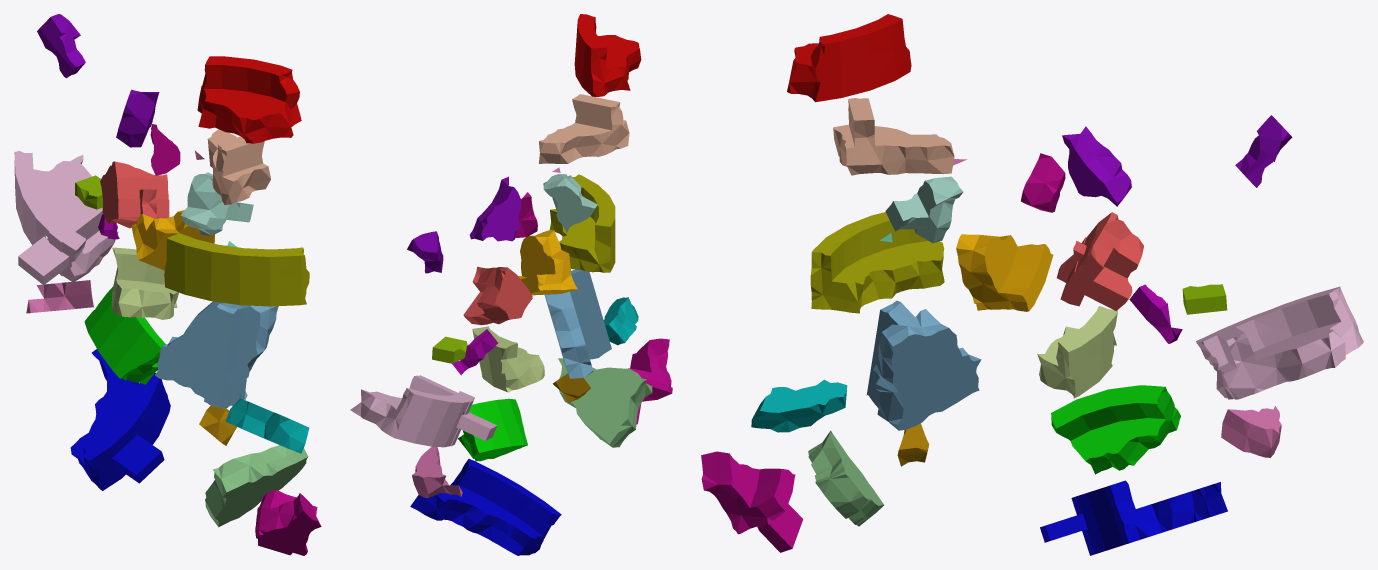
The model's file is fractured_66_23pcs_transformed.glb.
3 renders of one model, left to right at view 1: azimuth 30°, elevation 25°; view 2: azimuth 150°, elevation 25°; view 3: azimuth 270°, elevation 25°, orthographic. The views are drawn at different scales.
Parts seen in each view (by area): view 1: piece_6.obj, piece_2.obj, piece_11.obj, piece_10.obj, piece_9.obj, piece_3.obj, piece_8.obj, piece_1.obj, piece_5.obj, piece_7.obj, piece_15.obj, piece_4.obj (+8 smaller); view 2: piece_10.obj, piece_6.obj, piece_2.obj, piece_3.obj, piece_7.obj, piece_9.obj, piece_11.obj, piece_1.obj, piece_0.obj, piece_8.obj, piece_5.obj, piece_16.obj (+9 smaller); view 3: piece_6.obj, piece_2.obj, piece_11.obj, piece_8.obj, piece_9.obj, piece_10.obj, piece_15.obj, piece_0.obj, piece_7.obj, piece_1.obj, piece_5.obj, piece_3.obj (+9 smaller).
Part boxes in pixels (<box>): piece_6.obj: <box>14,151,118,285</box>; piece_2.obj: <box>155,301,278,409</box>; piece_11.obj: <box>164,233,309,306</box>; piece_10.obj: <box>70,349,170,490</box>; piece_9.obj: <box>197,56,301,143</box>; piece_3.obj: <box>205,445,308,527</box>; piece_8.obj: <box>84,286,165,384</box>; piece_1.obj: <box>100,161,169,228</box>; piece_5.obj: <box>111,247,178,319</box>; piece_7.obj: <box>207,129,270,204</box>; piece_15.obj: <box>255,490,321,555</box>; piece_4.obj: <box>180,172,253,235</box>; piece_10.obj: <box>410,459,561,555</box>; piece_6.obj: <box>350,375,497,447</box>; piece_2.obj: <box>544,269,611,378</box>; piece_3.obj: <box>558,358,652,447</box>; piece_7.obj: <box>539,94,629,163</box>; piece_9.obj: <box>574,14,641,96</box>; piece_11.obj: <box>549,174,615,272</box>; piece_1.obj: <box>463,266,532,325</box>; piece_0.obj: <box>518,230,577,295</box>; piece_8.obj: <box>458,398,527,461</box>; piece_5.obj: <box>472,326,544,392</box>; piece_16.obj: <box>469,176,521,241</box>; piece_6.obj: <box>1196,286,1363,399</box>; piece_2.obj: <box>866,300,981,430</box>; piece_11.obj: <box>810,212,944,313</box>; piece_8.obj: <box>1051,385,1180,474</box>; piece_9.obj: <box>787,14,911,102</box>; piece_10.obj: <box>1040,480,1227,555</box>; piece_15.obj: <box>701,451,803,552</box>; piece_0.obj: <box>956,234,1053,311</box>; piece_7.obj: <box>833,98,954,175</box>; piece_1.obj: <box>1057,212,1143,311</box>; piece_5.obj: <box>1037,306,1117,398</box>; piece_3.obj: <box>808,430,884,526</box>.
Size of the model in its own units: 0.382 by 1.51 by 1.65.
